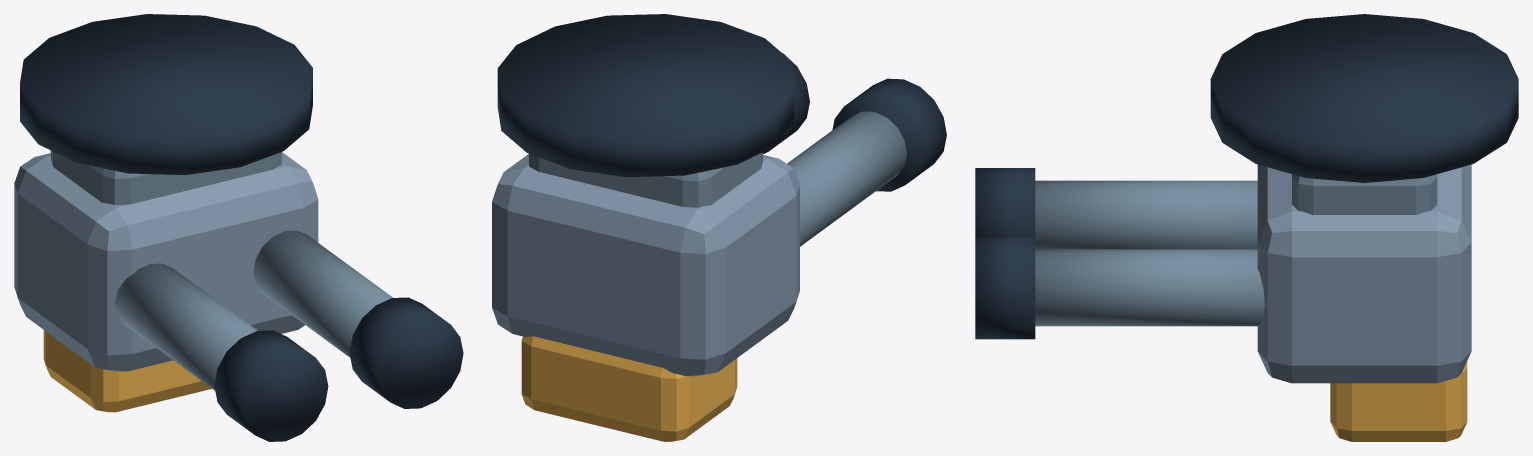
Rendered from blaster.glb.
3 renders of one model, left to right at view 1: azimuth 30°, elevation 25°; view 2: azimuth 150°, elevation 25°; view 3: azimuth 270°, elevation 25°, orthographic. The views are drawn at different scales.
Visible parts, largest first — view 1: PitchMesh, blasterMesh, YawMesh; view 2: PitchMesh, blasterMesh, YawMesh; view 3: PitchMesh, blasterMesh, YawMesh.
Part boxes in pixels (left/top/right/bottom): PitchMesh: left=14, top=152, right=463, bottom=441; blasterMesh: left=20, top=14, right=312, bottom=174; YawMesh: left=50, top=150, right=281, bottom=205; PitchMesh: left=492, top=53, right=946, bottom=441; blasterMesh: left=497, top=14, right=794, bottom=177; YawMesh: left=529, top=152, right=762, bottom=207; PitchMesh: left=975, top=164, right=1471, bottom=441; blasterMesh: left=1210, top=14, right=1518, bottom=182; YawMesh: left=1292, top=174, right=1437, bottom=214.
Size of the model in its own units: 0.36 by 0.425 by 0.635.
